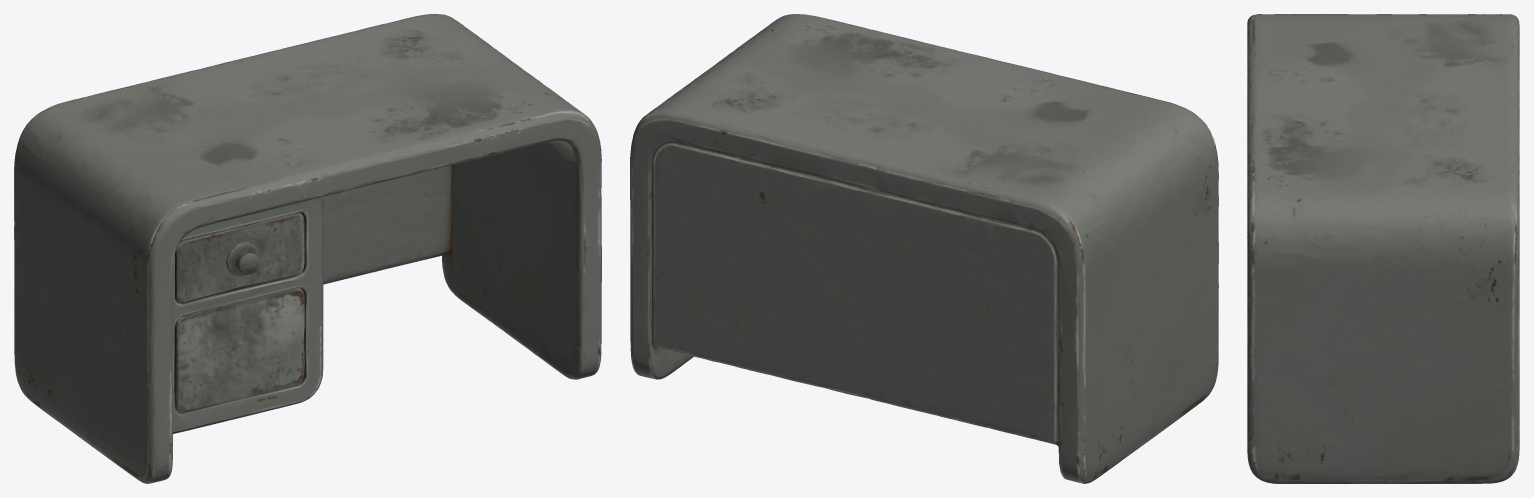
File: scrivania.glb
The picture shows the model from 3 angles, left to right: view 1: azimuth 30°, elevation 25°; view 2: azimuth 150°, elevation 25°; view 3: azimuth 270°, elevation 25°; orthographic projection. The views are drawn at different scales.
Parts seen in each view (by area): view 1: Mesh_0; view 2: Mesh_0; view 3: Mesh_0.
Boxes of the visible parts, box(x1,y1,x2,y2) form: Mesh_0: box(14, 14, 601, 483); Mesh_0: box(630, 14, 1218, 483); Mesh_0: box(1247, 14, 1519, 483).
Bounding box in the file's own units: 1.9 × 1.12 × 1.01.
Materials: 1 (1 with a texture image).
